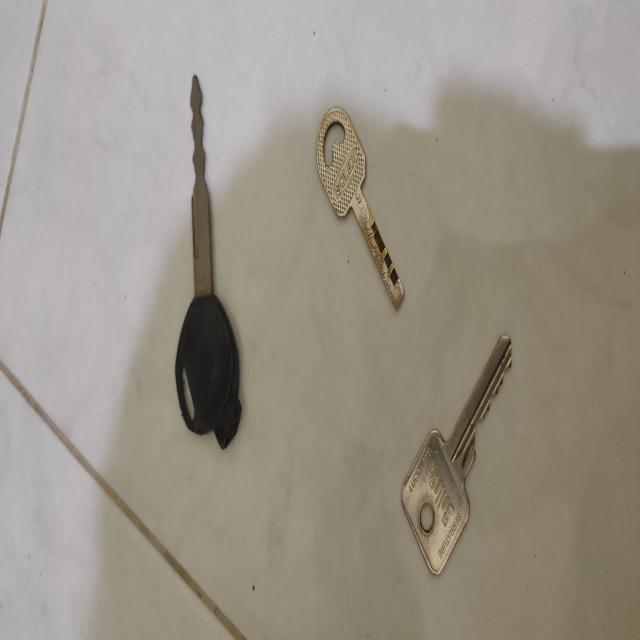kunci_kos: (397, 328, 521, 588)
kunci_motor: (169, 63, 249, 472)
kunci_pagar: (314, 96, 408, 316)
